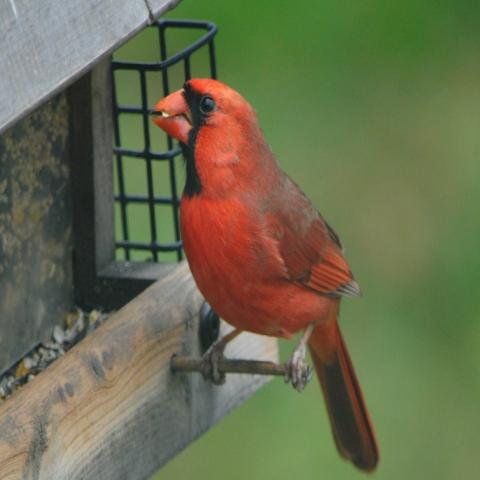bird: (147, 74, 382, 473)
